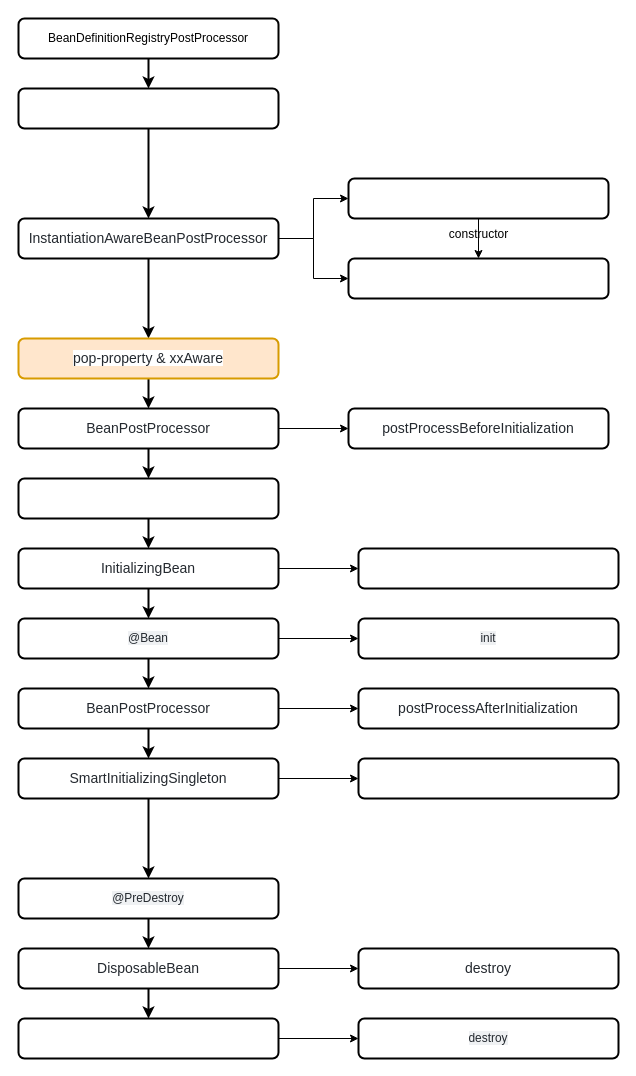
Some shapes in this 636 by 1076 pixel diagram are drawn without their labels. The centre of each missing label's shape, as x and y in pixels:
"@ Bean" goes at [148,1038].
"@ PostConstruct" goes at [148,498].
"afterPropertiesSet" goes at [488,568].
"afterSingletonsInstantiated" goes at [488,778].
"BeanFactoryPostProcessor" goes at [148,108].
"postProcessAfterInstantiation" goes at [478,278].
"postProcessBeforeInstantiation" goes at [478,198].
